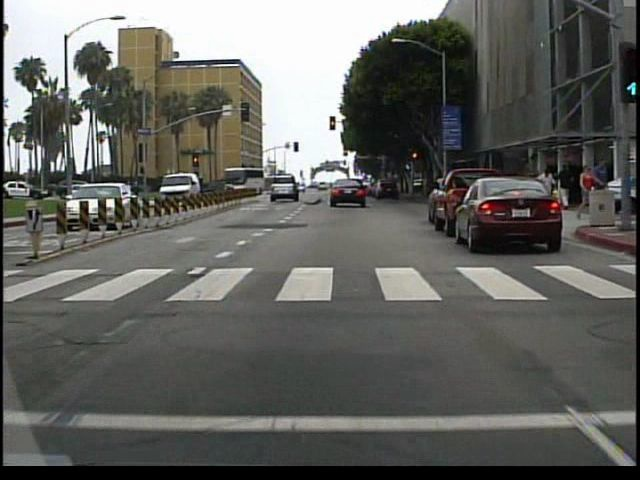person: (589, 158, 611, 222), (573, 161, 594, 223), (555, 163, 573, 210)
